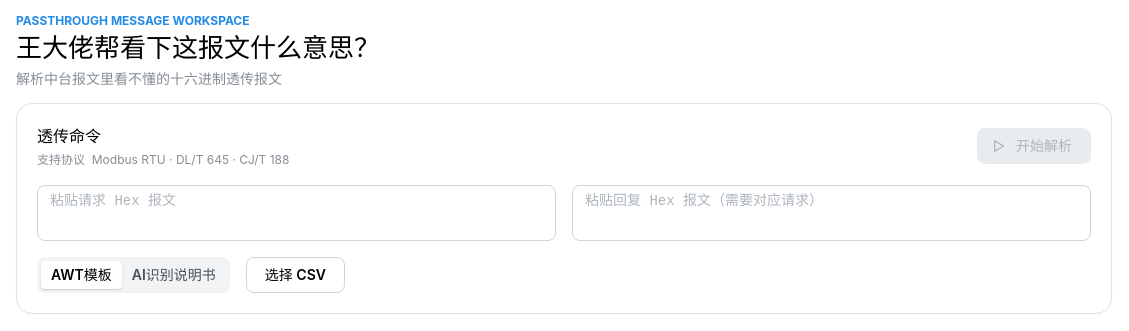
PassthroughWorkspace › defaults to AWT template and clears its file when switching to AI manual recognition
Expected: the radio button labelled "AWT模板" is checked, [51,266,112,283]
Click the button "选择 CSV". click: (295,275)
box: [246,257,345,293]
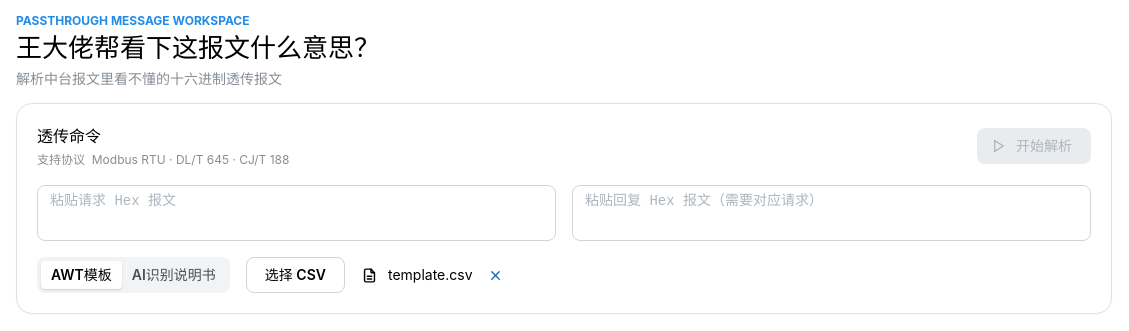
Expected: the text "template.csv" is shown, [388,265,473,285]
Click the text "AI识别说明书". click: (174,275)
box: [132,266,216,283]
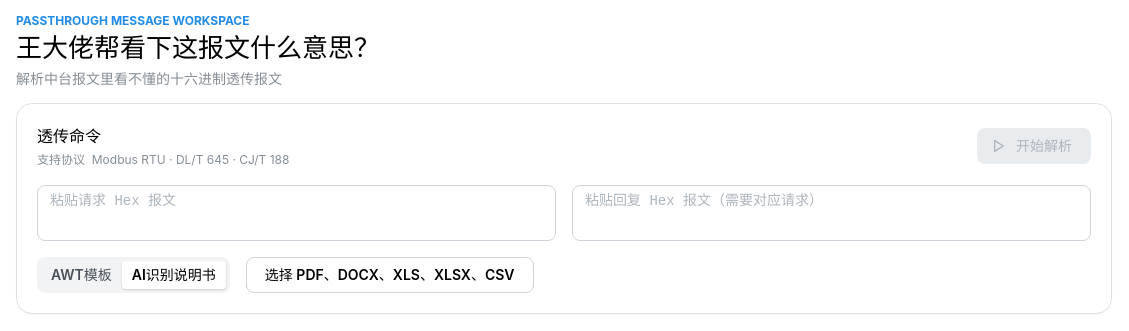
Expected: the text "template.csv" is gone
Expected: the button "选择 PDF、DOCX、XLS、XLSX、CSV" is shown, [246,257,534,293]
